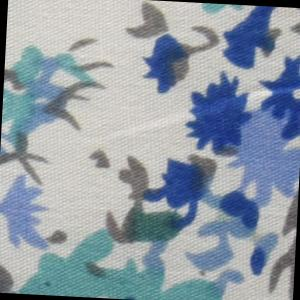Wrinkle: (78, 66, 300, 164)
